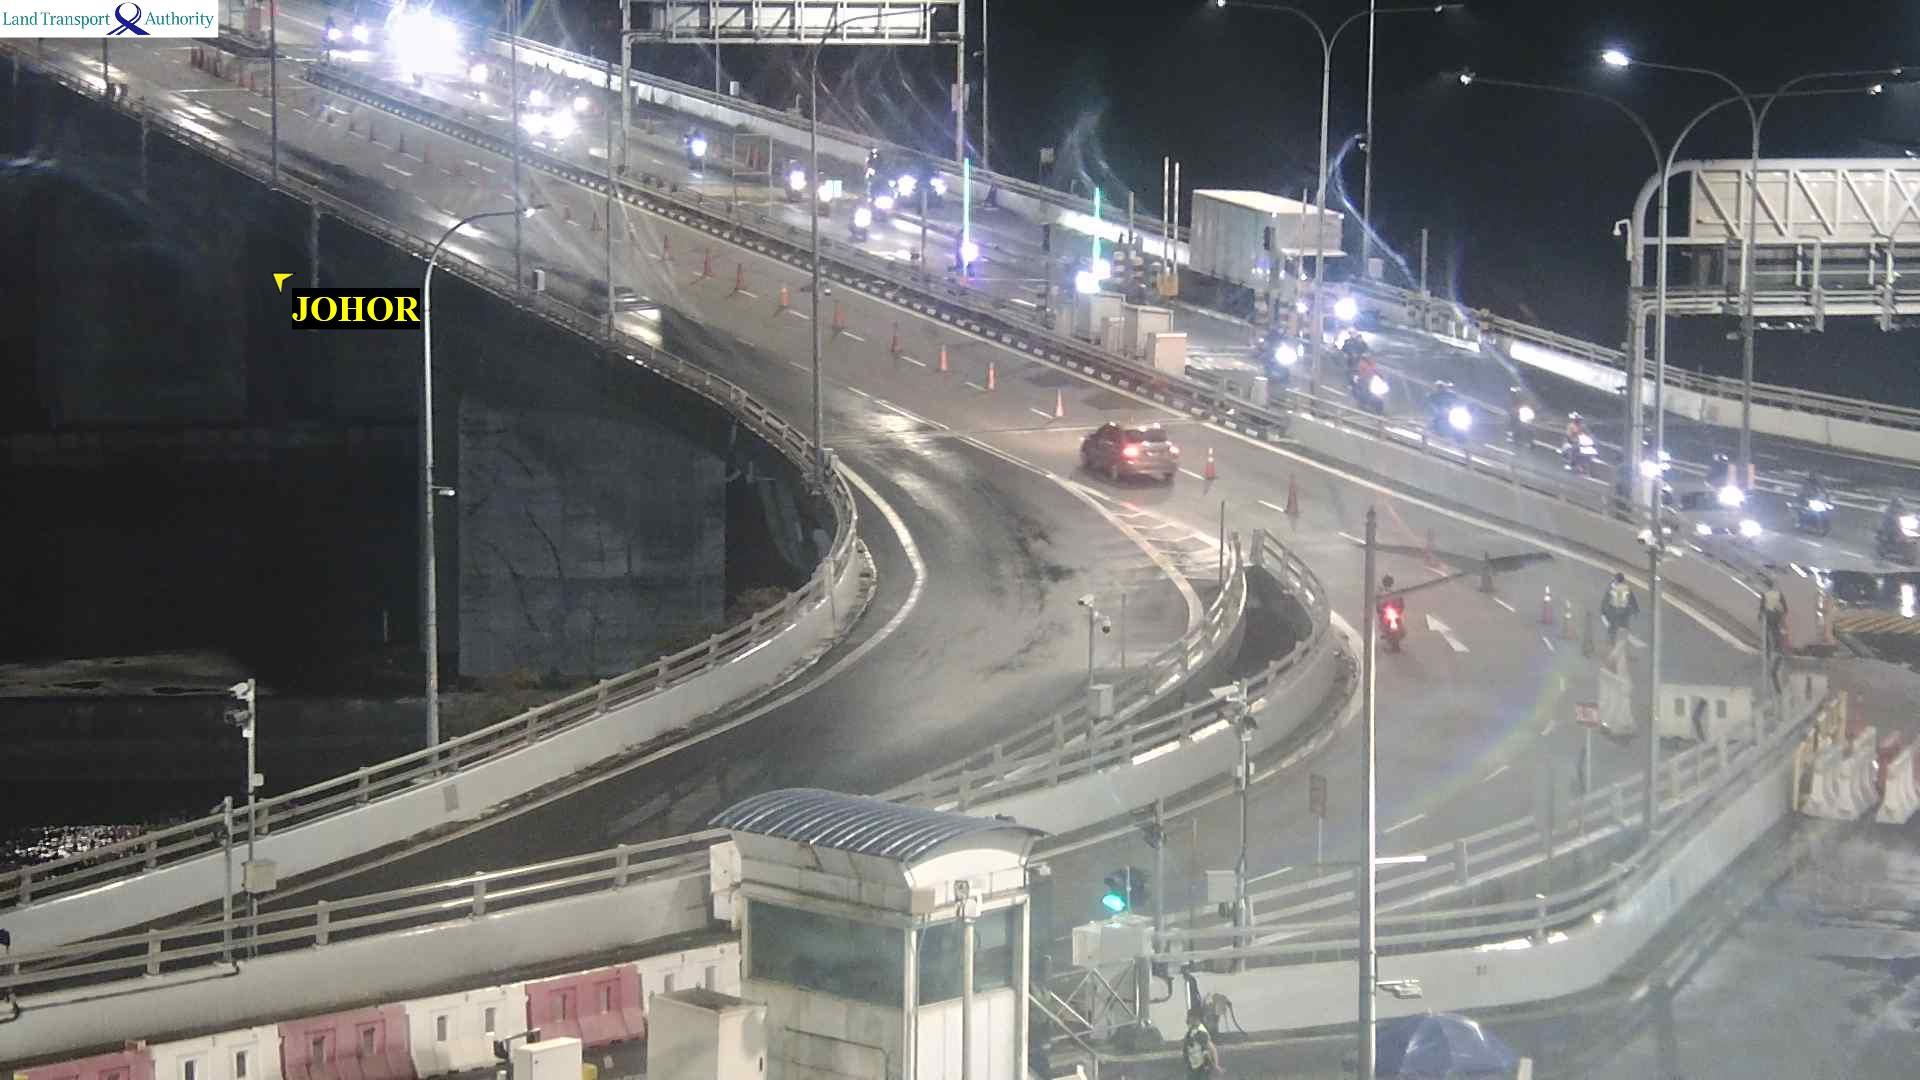vehicle-secondlink-johor: (1084, 420, 1178, 482), (1377, 576, 1404, 648)
vehicle-secondlink-singapore: (1191, 188, 1344, 325), (1561, 409, 1606, 480), (1786, 473, 1833, 536), (1688, 452, 1737, 512), (1426, 379, 1471, 439), (1879, 497, 1920, 553), (1507, 386, 1539, 447), (1356, 354, 1387, 411), (1259, 330, 1291, 382), (955, 225, 977, 274), (848, 194, 867, 239), (685, 127, 705, 166), (783, 160, 800, 202), (816, 170, 832, 213)
